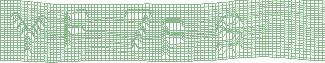7: (123, 7, 154, 53)
F: (61, 8, 91, 52), (158, 16, 185, 61)
S: (214, 12, 244, 57)
Y: (9, 12, 49, 58)
